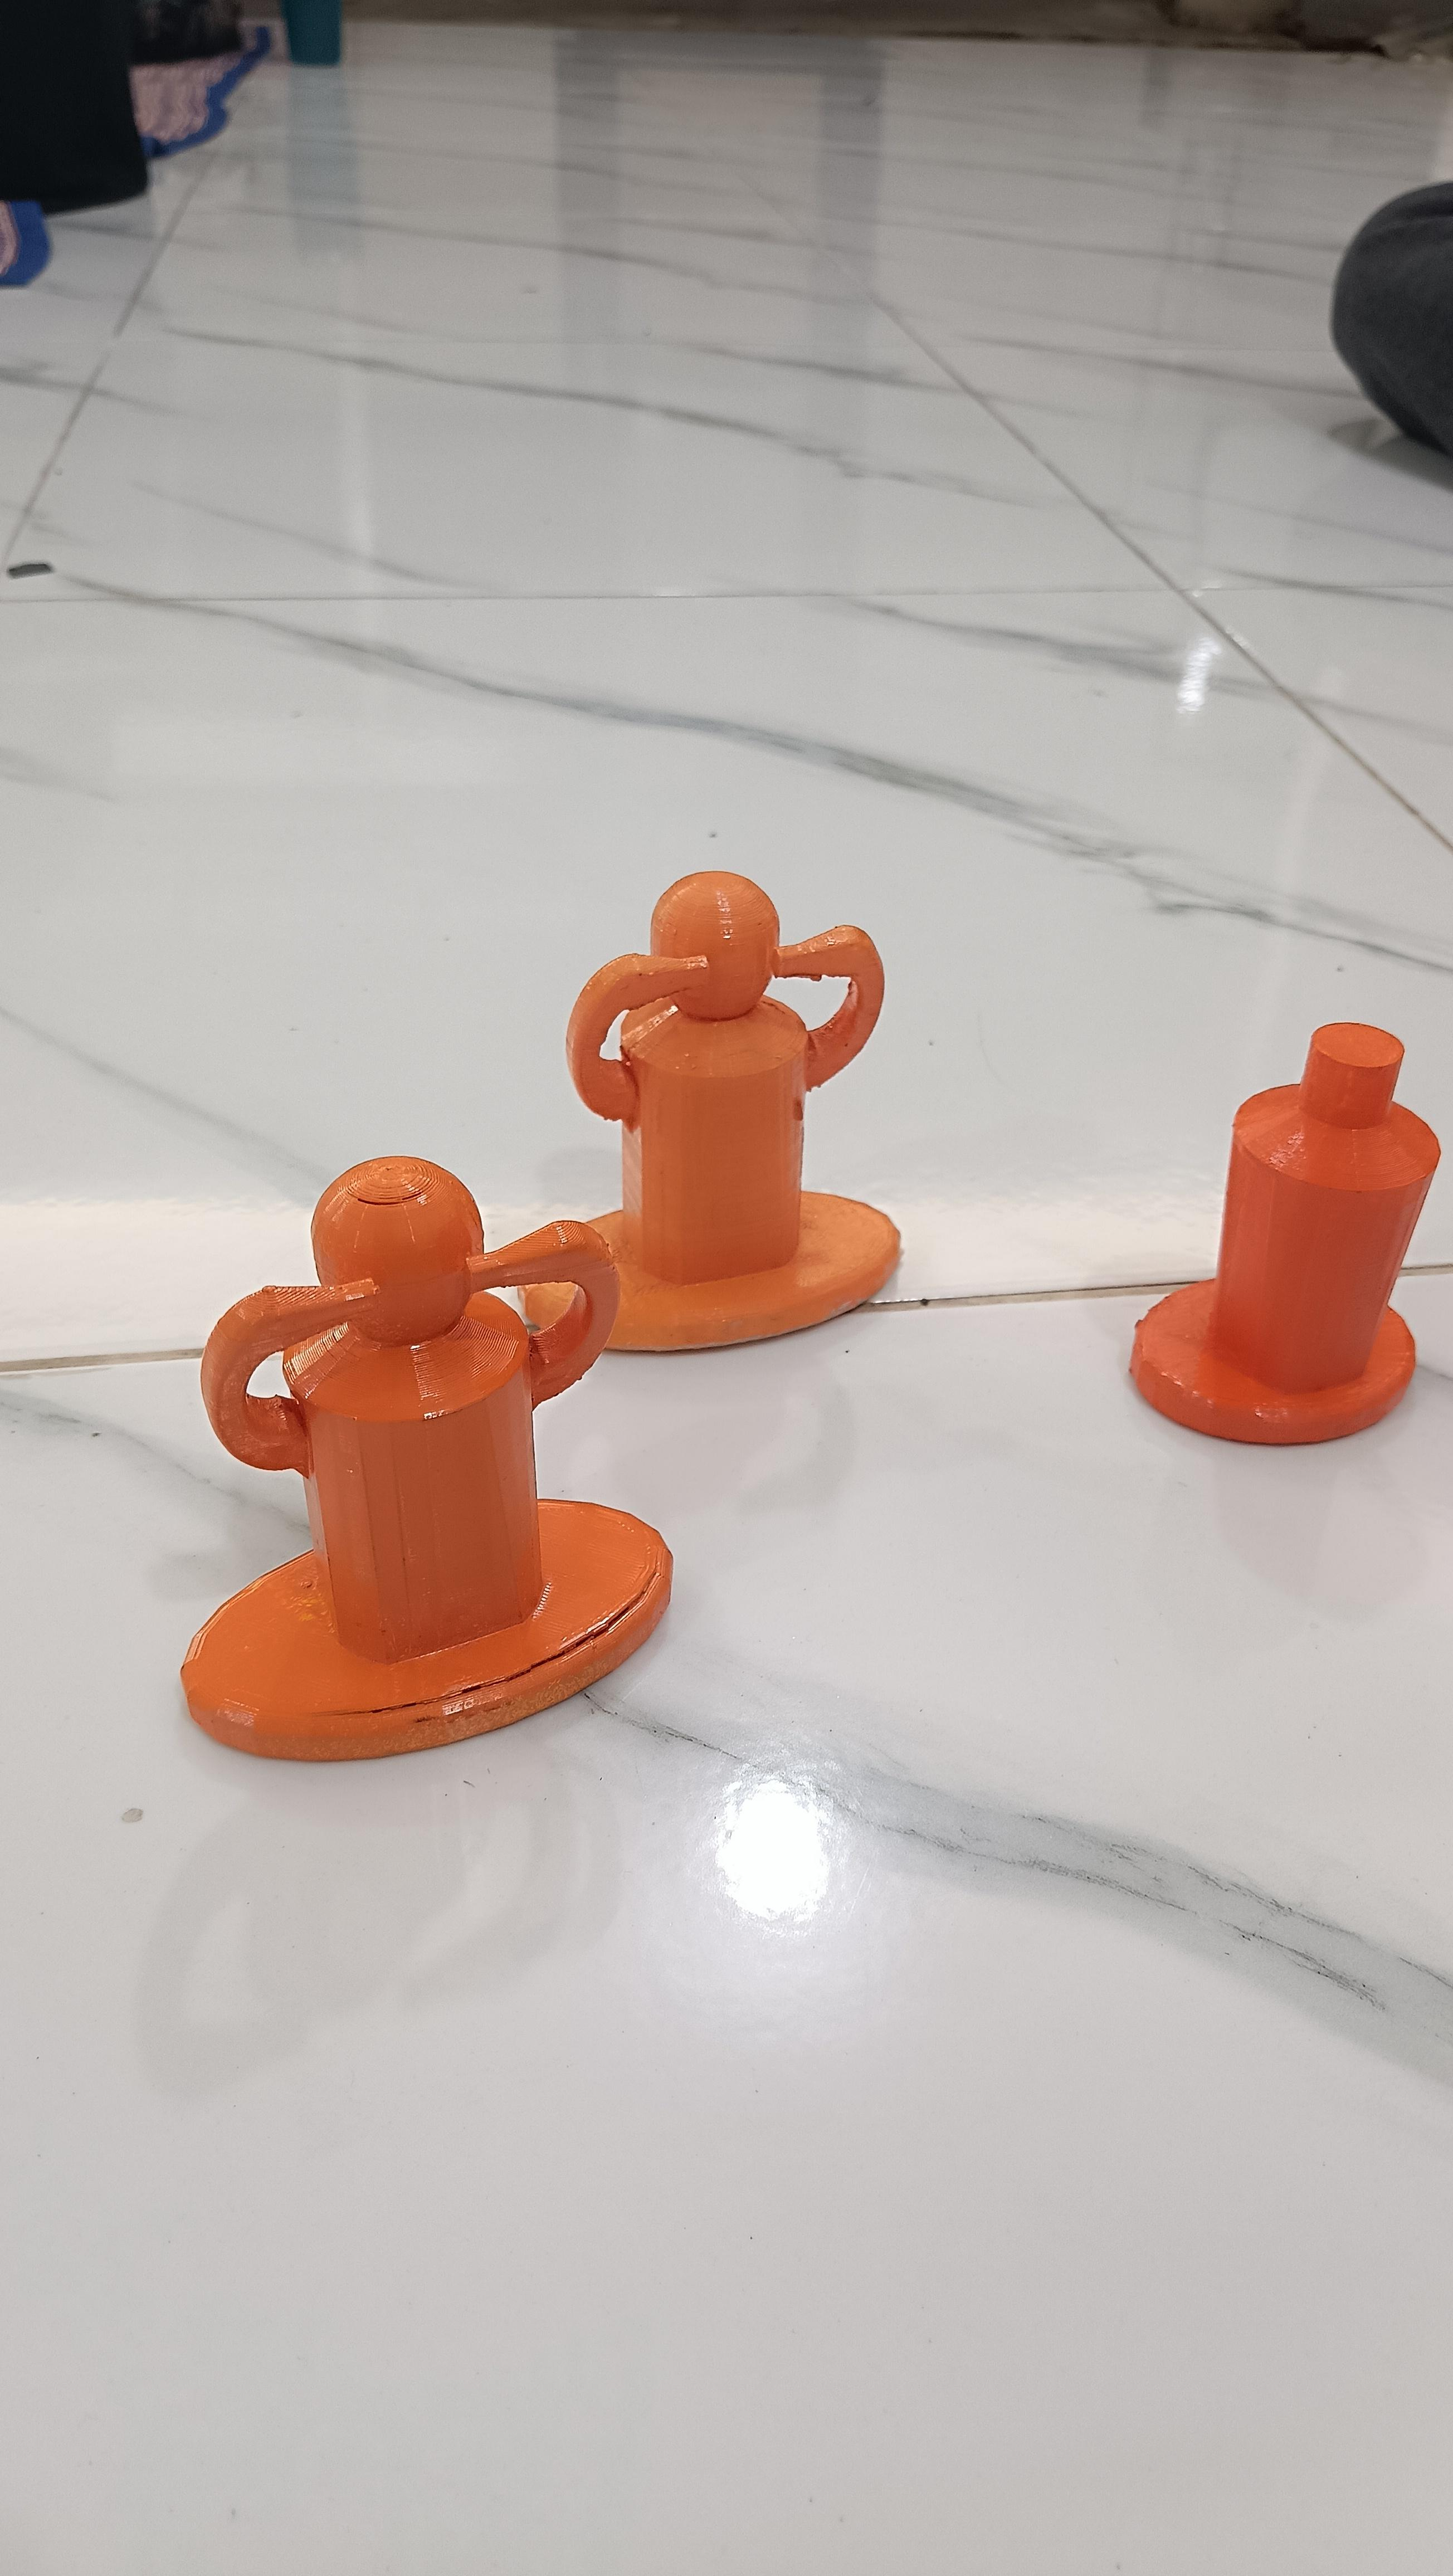dummy: (1090, 1006, 1452, 1535)
real_person: (128, 1128, 688, 1793), (497, 838, 981, 1368)
